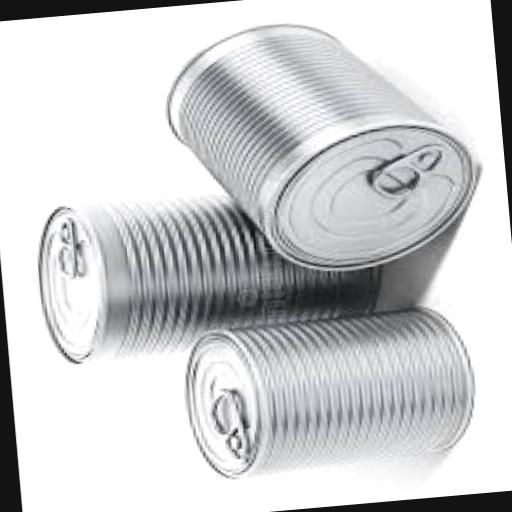metal: (154, 5, 487, 286), (29, 176, 385, 365), (172, 298, 478, 480)
